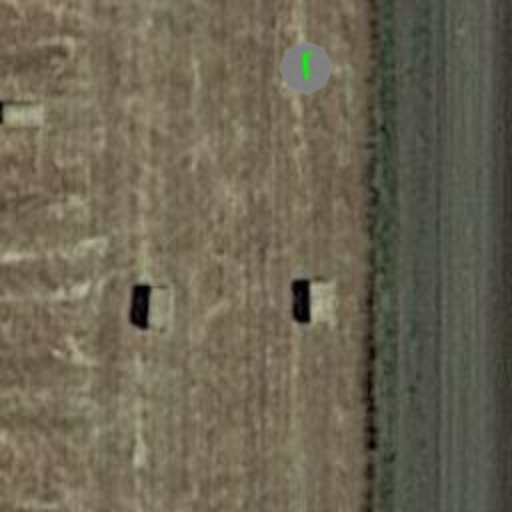octagon: (276, 38, 336, 98)
